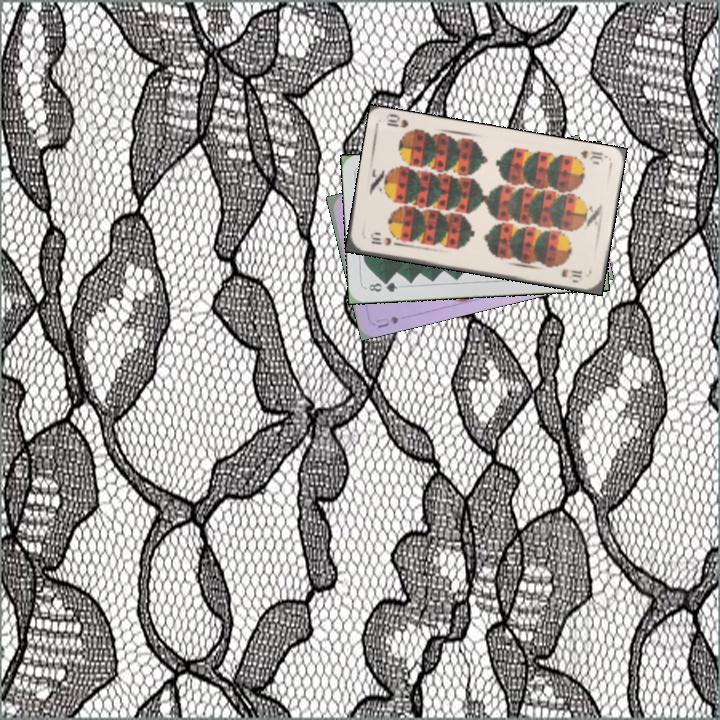G8: (365, 277, 400, 295)
S10: (577, 146, 609, 167), (366, 231, 402, 248)
SU: (372, 312, 401, 330)
